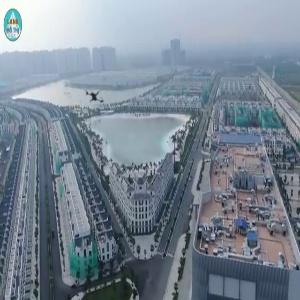drone: (75, 76, 116, 117)
